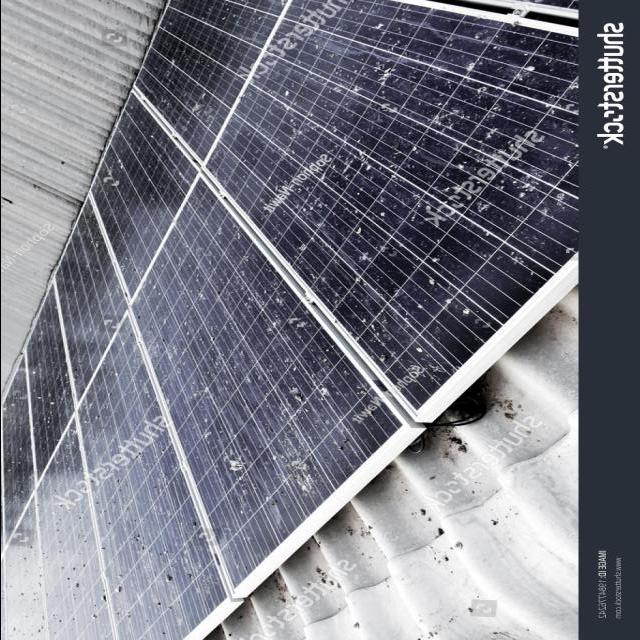soiled: (2, 1, 560, 640)
